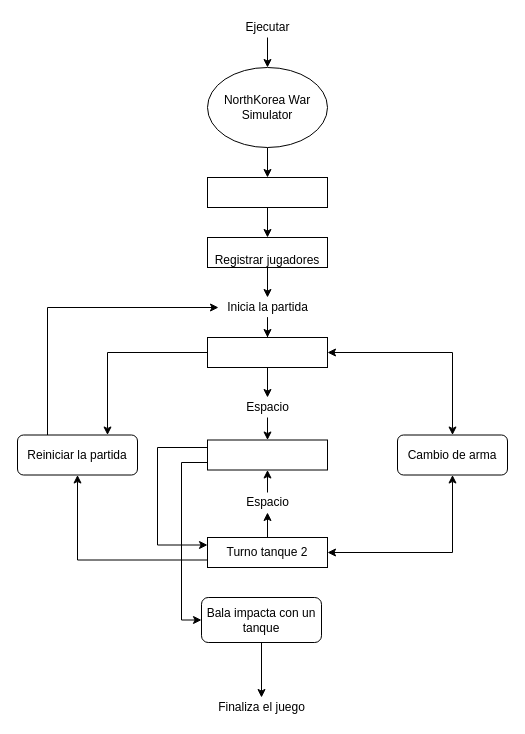
This 525x734 diagram has some shape labels left out. The box of each missing label's shape, as (x1, y1, x2, y2) in pixels:
Disparo: (206, 439, 328, 470)
Jugar: (206, 176, 328, 208)
Turno tanque 1: (206, 336, 328, 368)
